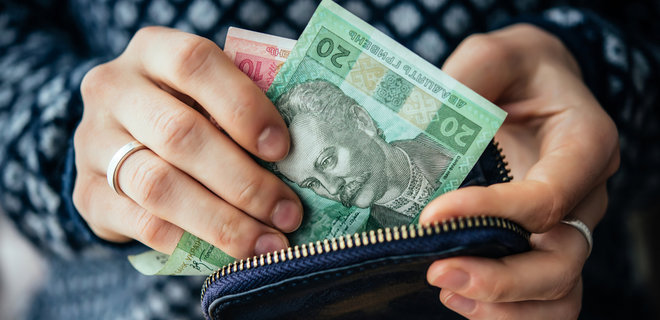bn_10: (209, 26, 295, 81)
bn_20: (135, 0, 507, 203)
